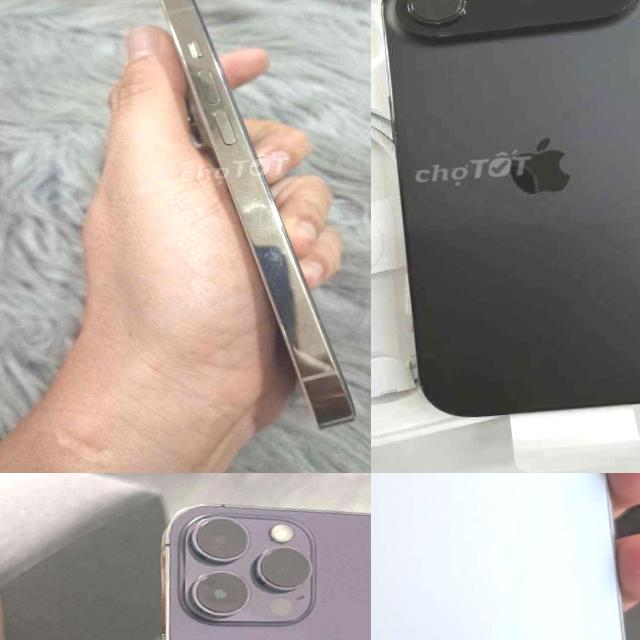gen_14: (149, 0, 371, 445), (118, 479, 371, 640)
gen_15: (371, 473, 640, 640)
gen_17: (371, 0, 640, 440)
scratch: (227, 184, 304, 286)
